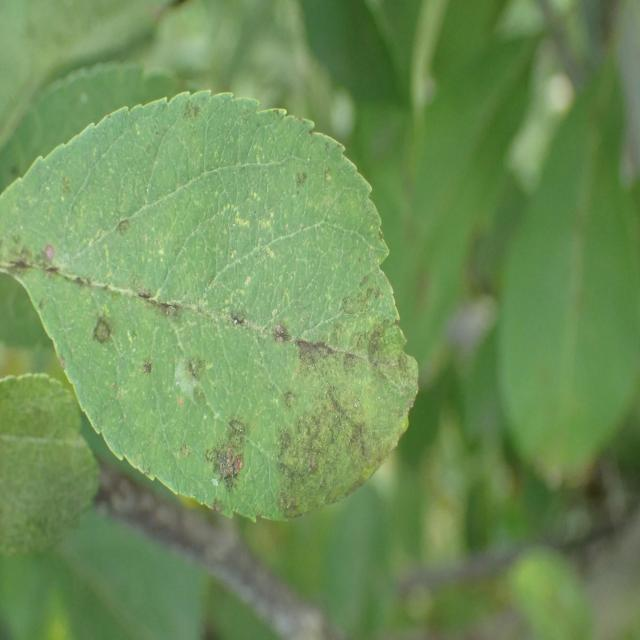scab: (0, 80, 418, 518)
